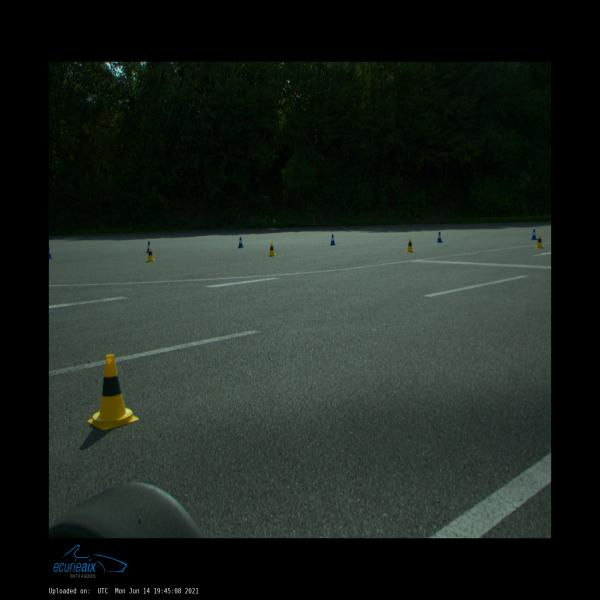blue_cone: (436, 232, 443, 243), (237, 237, 244, 248), (146, 241, 152, 253), (531, 229, 537, 240), (330, 235, 336, 246)
yellow_cone: (88, 354, 139, 430), (147, 247, 155, 262), (536, 234, 544, 248), (406, 238, 414, 252), (269, 243, 276, 256)
